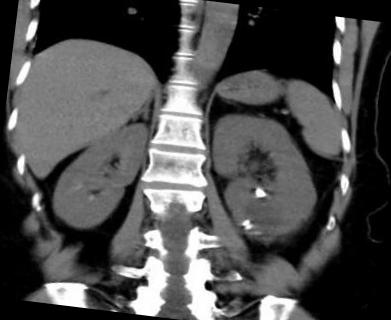Tas_Var: (252, 183, 271, 200), (241, 218, 252, 226), (244, 223, 255, 230)
